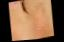plaque psoriasis: (9, 0, 20, 6)
